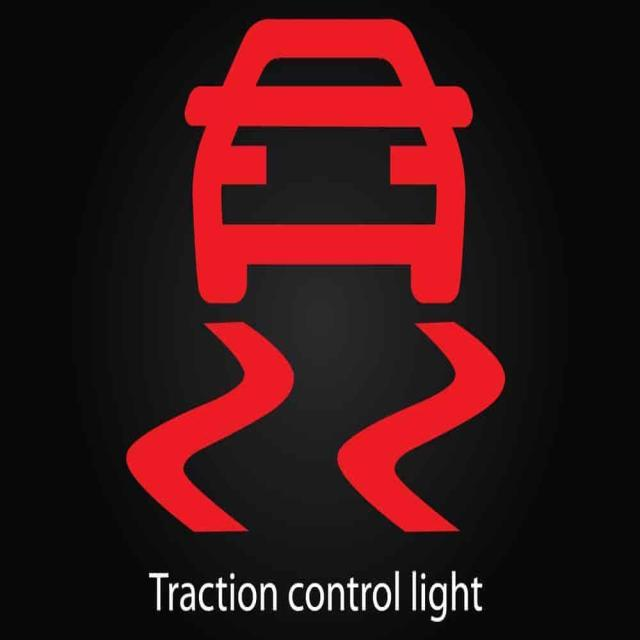kontrolka: (92, 9, 520, 561)
